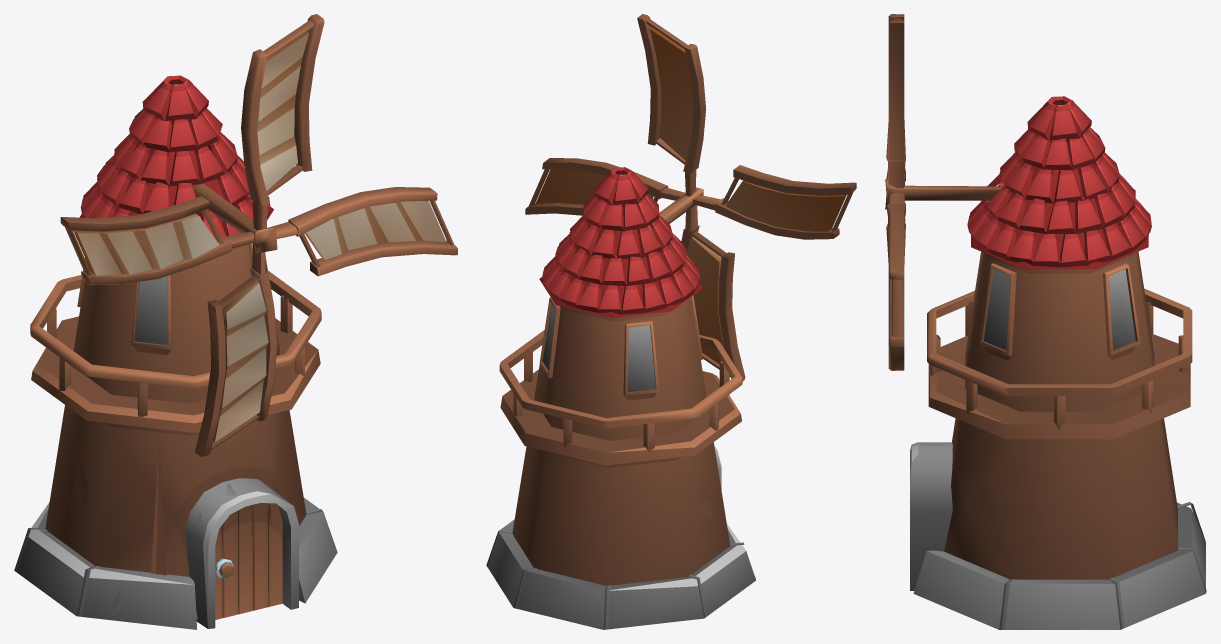
File: towerlv3.glb
3 views of the same model, side by side, from view 1: azimuth 30°, elevation 25°; view 2: azimuth 150°, elevation 25°; view 3: azimuth 270°, elevation 25° (orthographic). The views are drawn at different scales.
Parts seen in each view (by area): view 1: towerlv3, Cube.012, Cube.004; view 2: towerlv3, Cube.012, Cube.004; view 3: towerlv3, Cube.012, Cube.004.
Part boxes in pixels (x1,y1,x2,y2): towerlv3: (14,75,337,629); Cube.012: (60,14,457,457); Cube.004: (194,183,277,253); towerlv3: (486,167,756,629); Cube.012: (525,14,856,380); Cube.004: (648,187,703,234); towerlv3: (910,96,1206,629); Cube.012: (886,14,905,370); Cube.004: (885,179,1014,209).
Bounding box in the file's own units: 5.1 × 7.39 × 3.75.
Materials: 1 (1 with a texture image).
